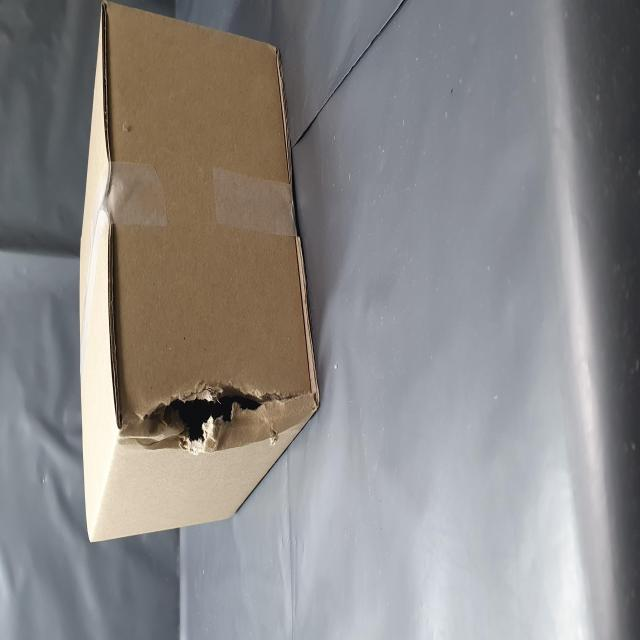damaged: (107, 220, 144, 487)
